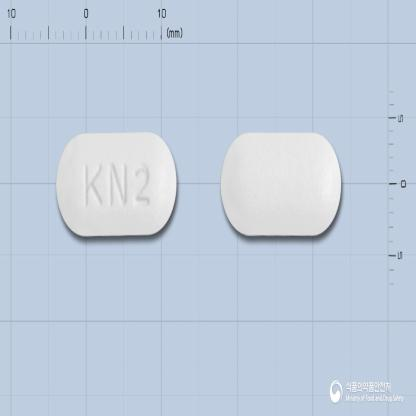pill: (54, 129, 178, 238), (220, 129, 344, 237)
